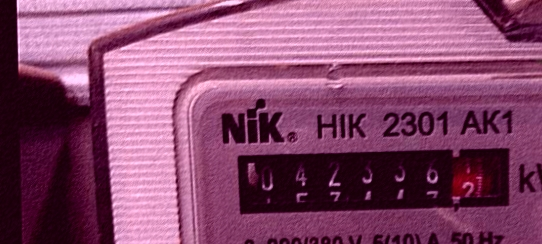0: (257, 166, 273, 194)
1: (459, 156, 472, 178)
2: (324, 161, 341, 190), (458, 181, 474, 200)
3: (388, 156, 405, 186), (356, 159, 372, 187)
4: (290, 160, 308, 190)
6: (422, 157, 440, 188)
screen: (224, 137, 522, 225)
